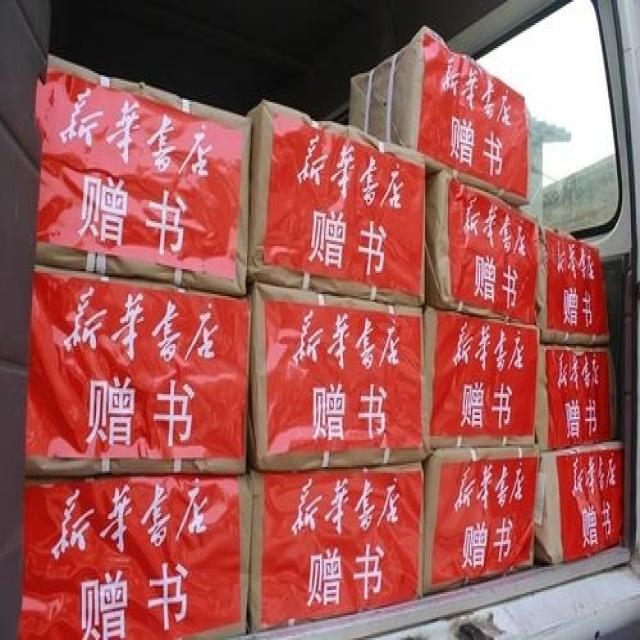Carton: (13, 267, 250, 638), (250, 108, 424, 465), (253, 454, 539, 634), (31, 60, 247, 294), (428, 167, 608, 334), (351, 35, 525, 198), (424, 311, 535, 452), (547, 440, 620, 561), (541, 346, 602, 446)
